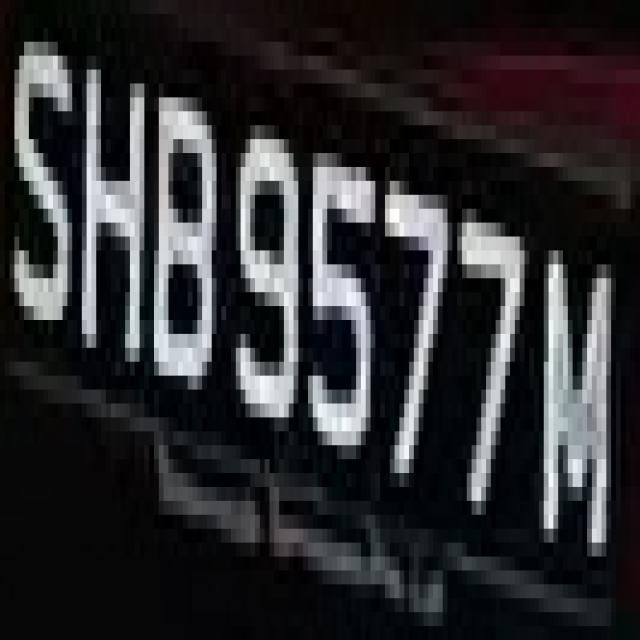5: (318, 111, 380, 459)
7: (371, 111, 457, 529), (452, 167, 520, 543)
9: (236, 84, 303, 459)
B: (144, 56, 226, 417)
H: (77, 83, 149, 348)
M: (544, 209, 630, 570)
S: (14, 28, 77, 334)
